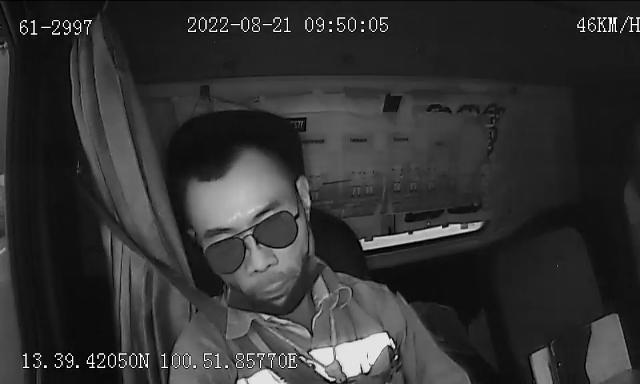SafeDriving: (414, 96, 460, 120)
Seatbelt: (97, 214, 337, 384)
